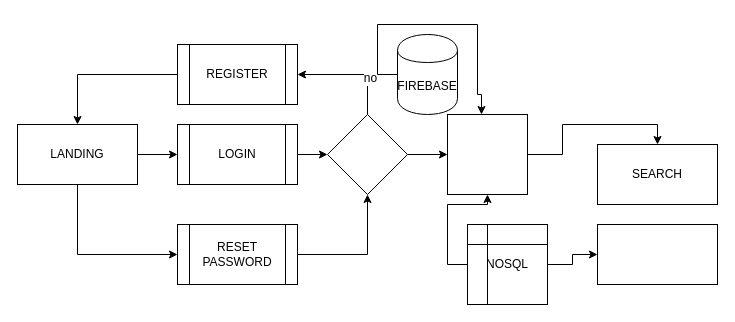
This 735x322 diagram has some shape labels left out. Here are the shapes that lost their labels. From the top down, the box of each, then its label:
(326, 114, 408, 194): VALID USER
(446, 114, 528, 194): MAIN UI
(596, 224, 718, 284): COMMENT/RATE
